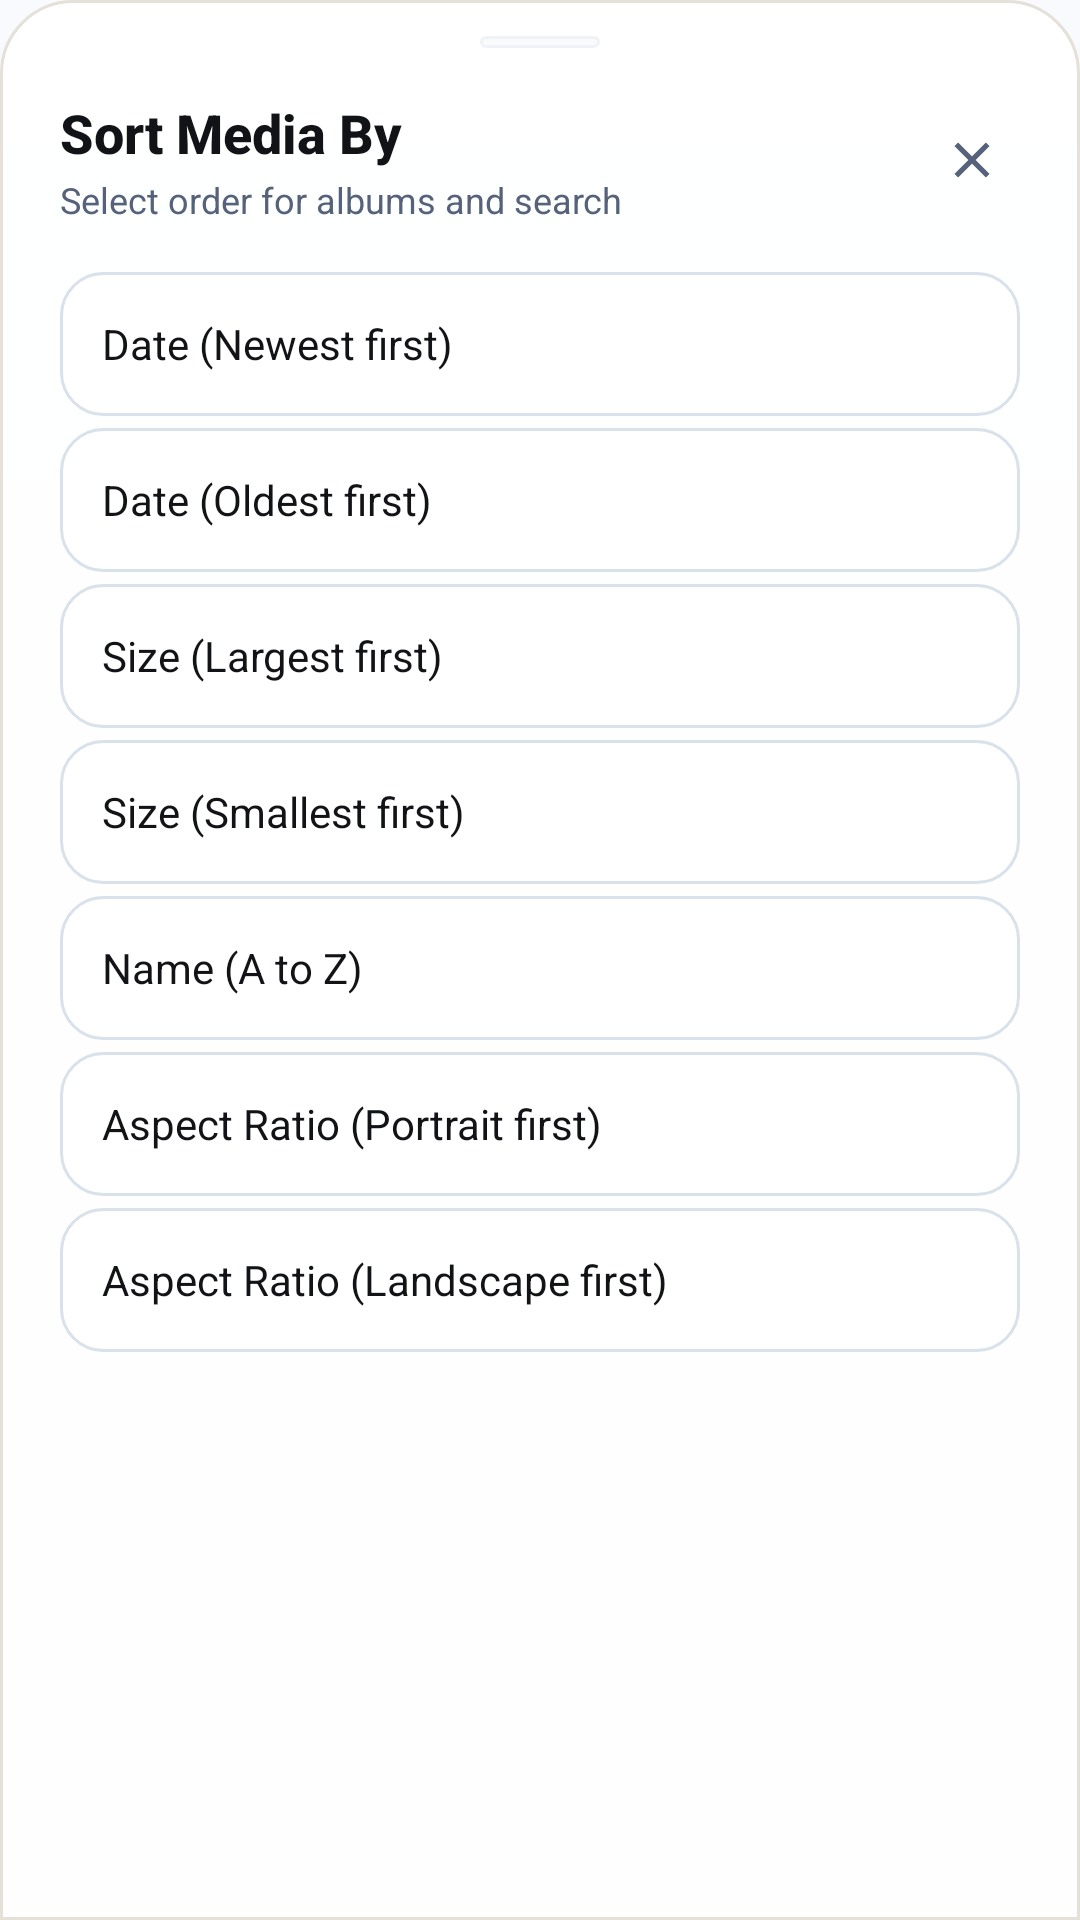

Point at icon controls on the screen. Image size 1080px x 1920px, points as [x,y].
Close: [972,160]
